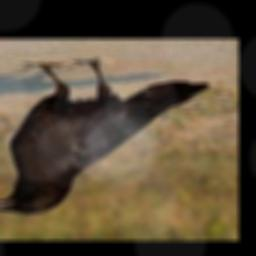Crow: (0, 59, 209, 214)
